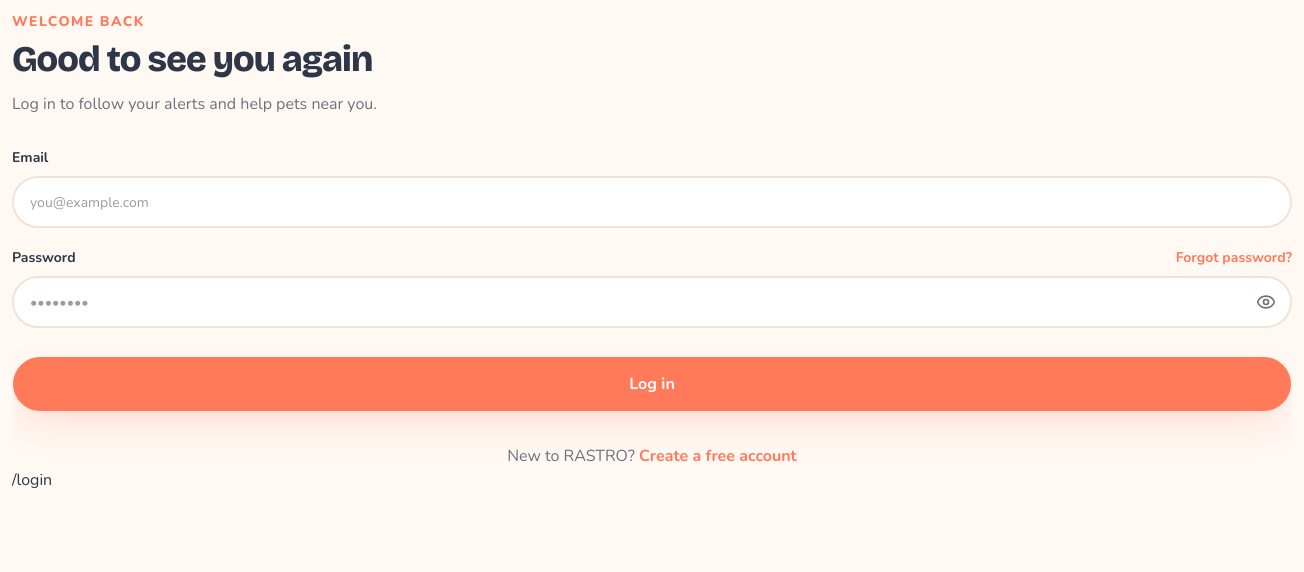
LoginPage return navigation › preserves direct-login behavior when there is no return destination
In the field labelled "Email": x=652, y=202 x1=12 y1=176 x2=1292 y2=228, type "person@example.com"
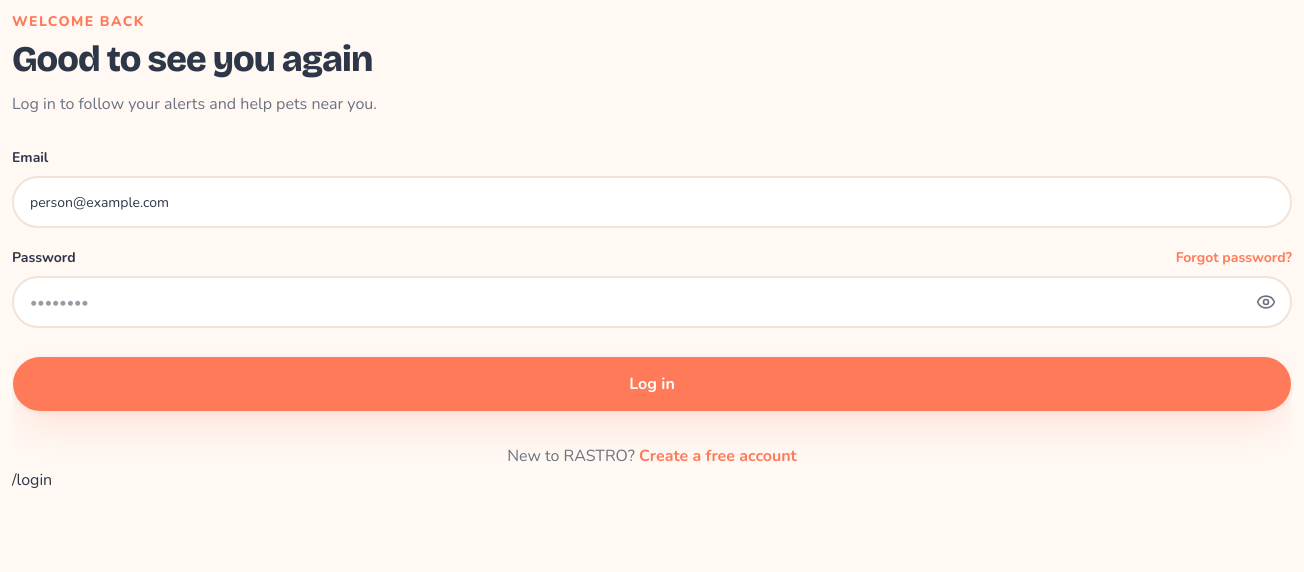
In the password field labelled "Password": x=652, y=302 x1=12 y1=276 x2=1292 y2=328, type "password"
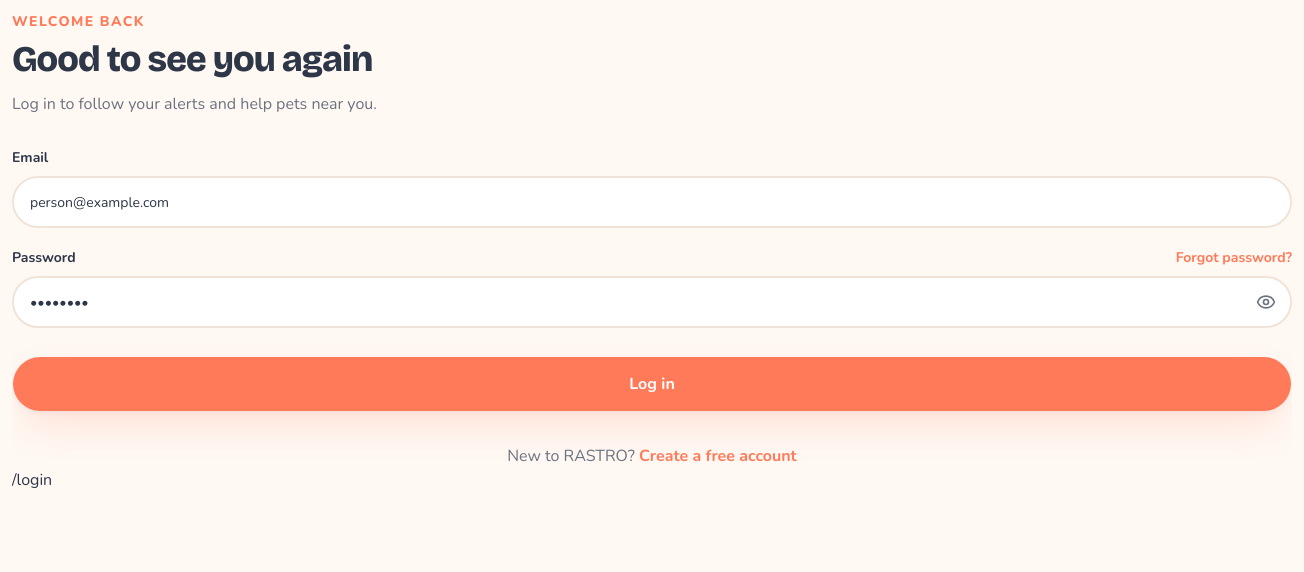
Submit the form, box x1=12 y1=148 x2=1292 y2=412
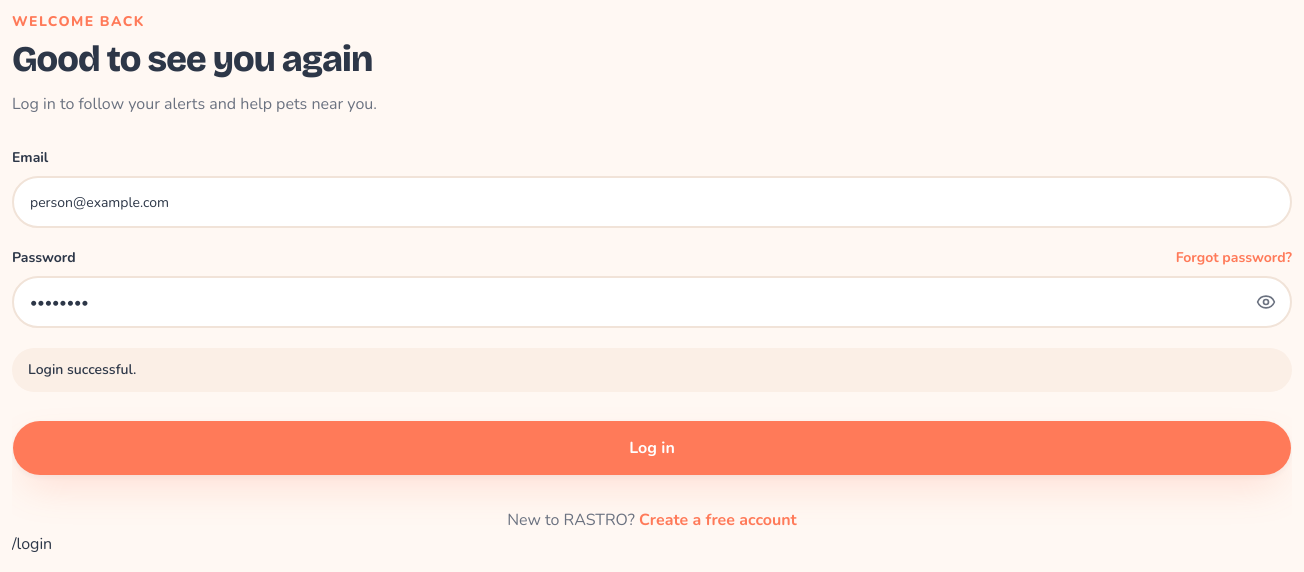
Check: the text with test id "current-path" reads "/login", box x1=12 y1=533 x2=52 y2=555
Check: the message reads "Login successful.", box x1=28 y1=360 x2=136 y2=379
